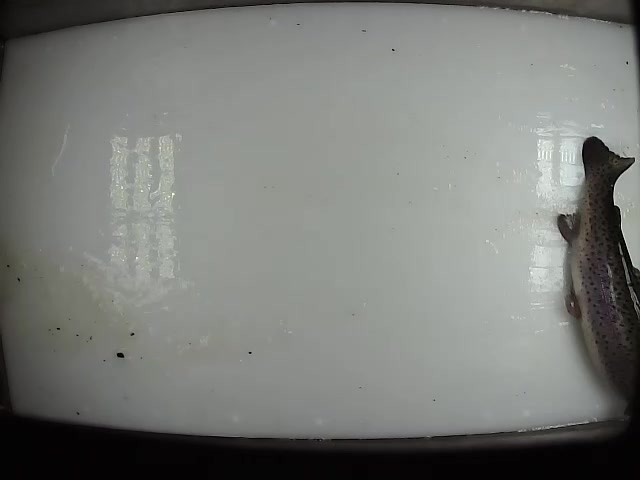fish: (553, 133, 640, 414)
